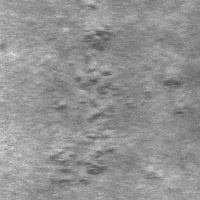rolled-in_scale: (47, 65, 186, 123), (50, 125, 163, 187), (81, 24, 116, 62)
